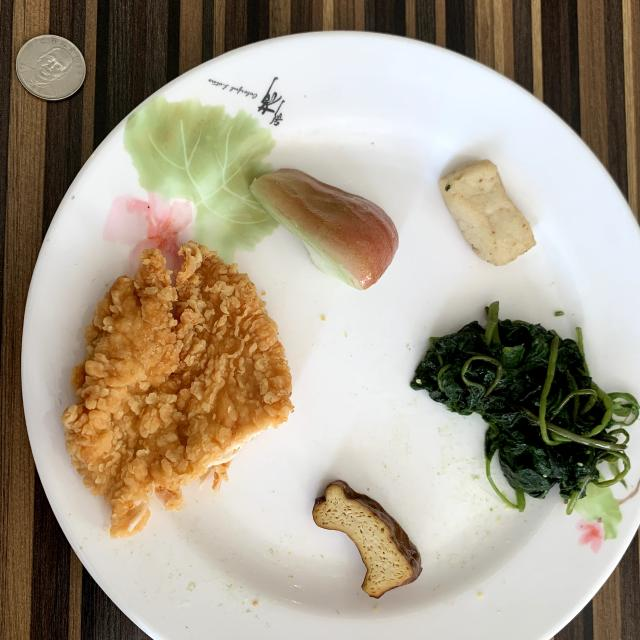coin: (16, 35, 86, 100)
creamy tofu -without sauce-: (439, 160, 536, 265)
firm tofu: (312, 480, 421, 599)
fried chicken cutlet: (61, 241, 292, 538)
sweet potato leaves: (411, 302, 639, 512)
